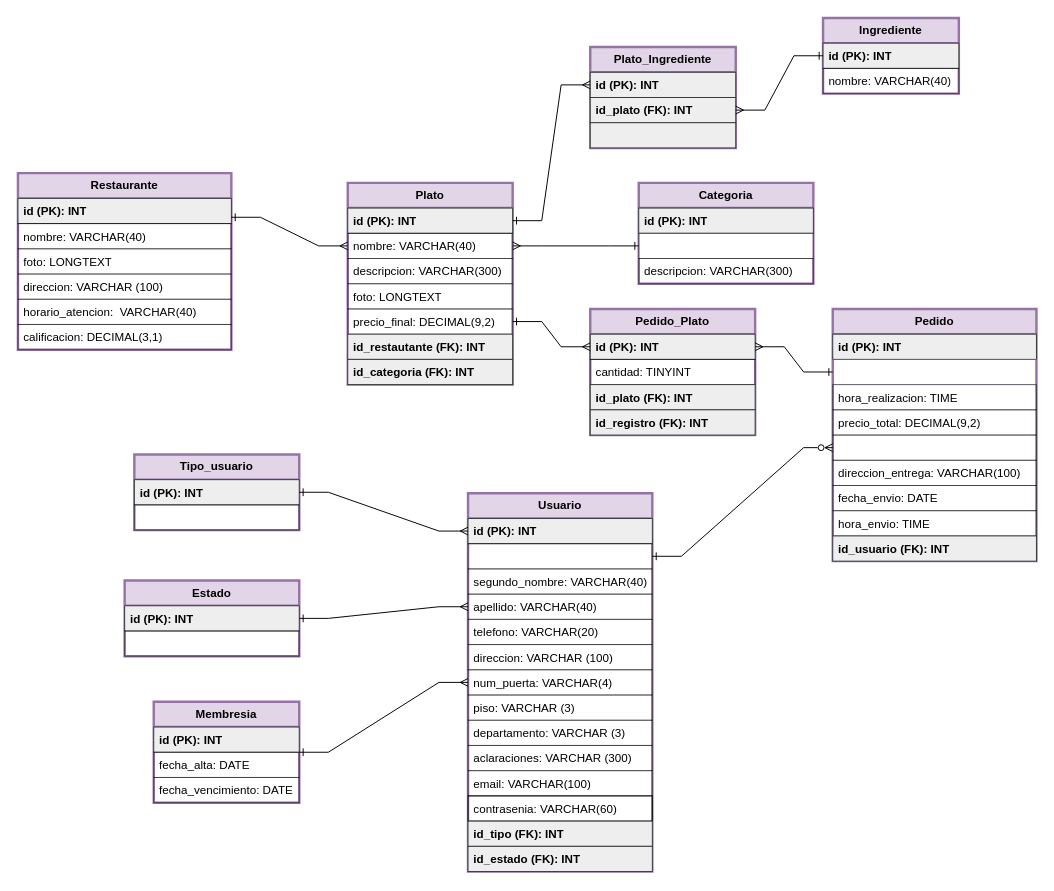
This 1054x891 diagram has some shape labels left out. Each missing label, with the centre of its shape:
aclaraciones: VARCHAR(300): pixel 934 447
fecha_realizacion: DATE: pixel 934 371
id_ingrediente (FK): INT: pixel 662 135
nombre_cat: VARCHAR(20): pixel 725 245
nombre_estado: VARCHAR(30): pixel 211 643
nombre_tipo: VARCHAR(11): pixel 216 517
primer_nombre: VARCHAR(40): pixel 559 556
